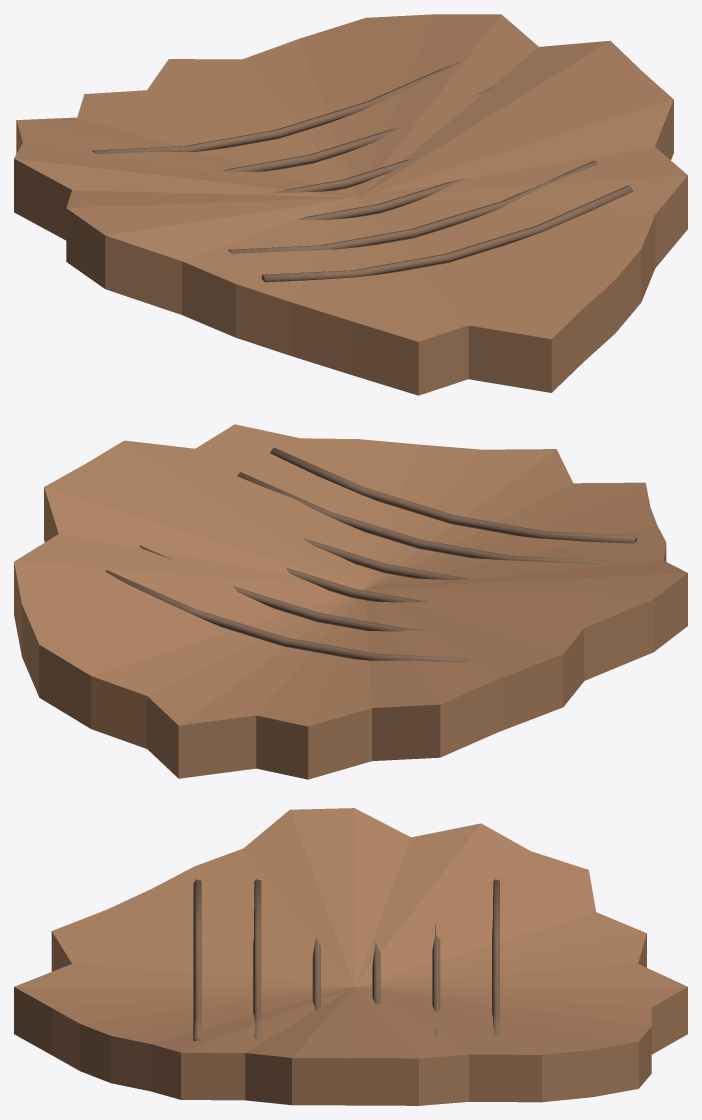
File: PotterySherd.fbx
The picture shows the model from 3 angles, top to bottom: view 1: azimuth 30°, elevation 25°; view 2: azimuth 150°, elevation 25°; view 3: azimuth 270°, elevation 25°; orthographic projection. The views are drawn at different scales.
Parts seen in each view (by area): view 1: Material group PotterySherd_WeatheredClay, Material group PotterySherd_DarkCore; view 2: Material group PotterySherd_WeatheredClay, Material group PotterySherd_DarkCore; view 3: Material group PotterySherd_WeatheredClay, Material group PotterySherd_DarkCore.
Boxes of the visible parts, x1,y1,x2,y2 form: Material group PotterySherd_WeatheredClay: [14, 14, 687, 395]; Material group PotterySherd_DarkCore: [92, 61, 633, 282]; Material group PotterySherd_WeatheredClay: [14, 424, 687, 779]; Material group PotterySherd_DarkCore: [105, 447, 636, 662]; Material group PotterySherd_WeatheredClay: [14, 808, 687, 1105]; Material group PotterySherd_DarkCore: [193, 879, 499, 1040].
Size of the model in its own units: 0.8758 by 0.1649 by 1.
